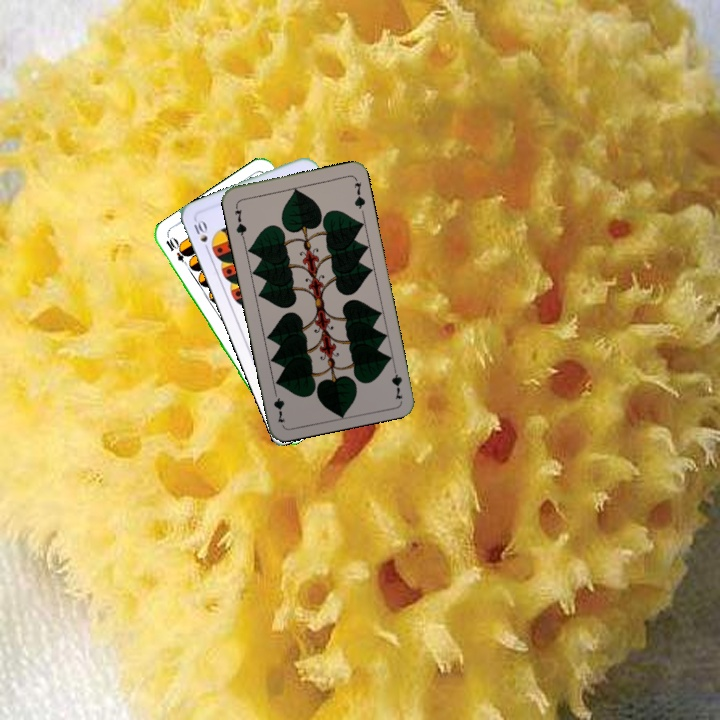E10: (162, 234, 192, 270)
G7: (230, 201, 249, 241), (387, 361, 405, 402)
S10: (189, 215, 216, 255)
